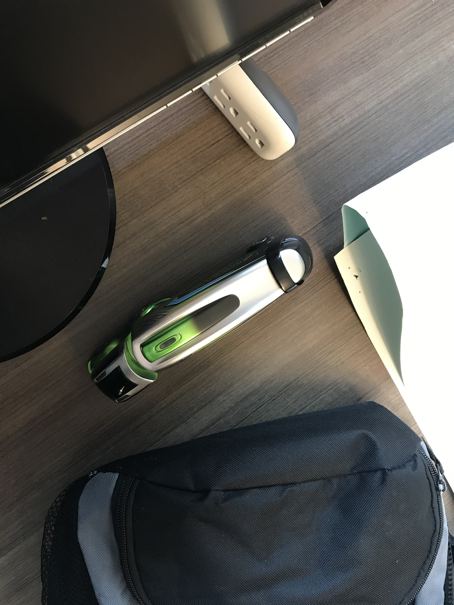Freewheel: (88, 234, 315, 403)
